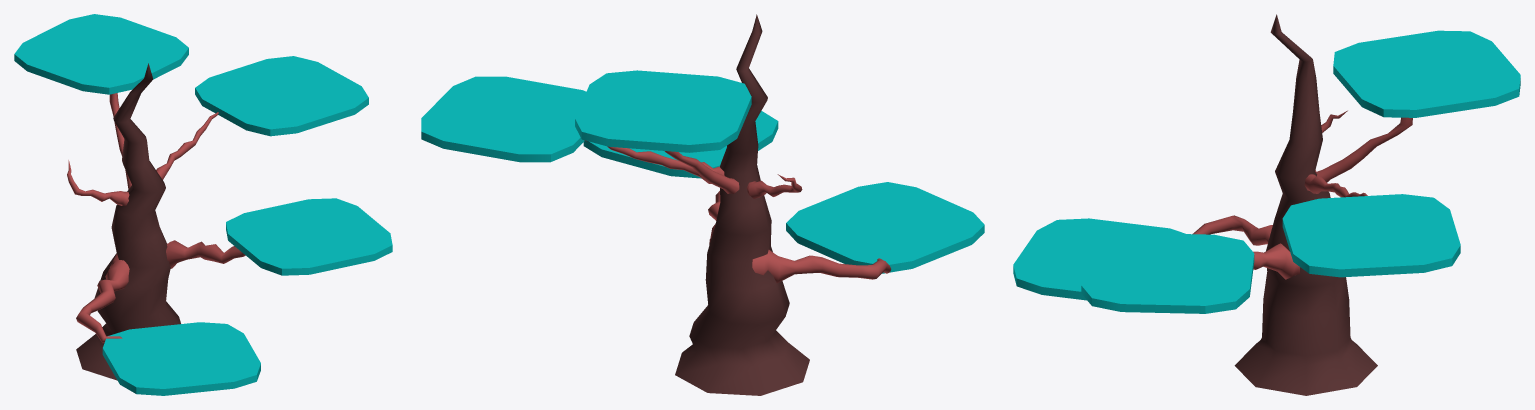
File: crazytreee.fbx
The picture shows the model from 3 angles, left to right: view 1: azimuth 30°, elevation 25°; view 2: azimuth 150°, elevation 25°; view 3: azimuth 270°, elevation 25°; orthographic projection. The views are drawn at different scales.
Parts seen in each view (by area): view 1: polySurface11; view 2: polySurface11; view 3: polySurface11.
Boxes of the visible parts, x1,y1,x2,y2 form: polySurface11: (14,14,392,395); polySurface11: (421,14,984,395); polySurface11: (1013,14,1520,395).
Bounding box in the file's own units: 17.45 × 14.42 × 18.86.
